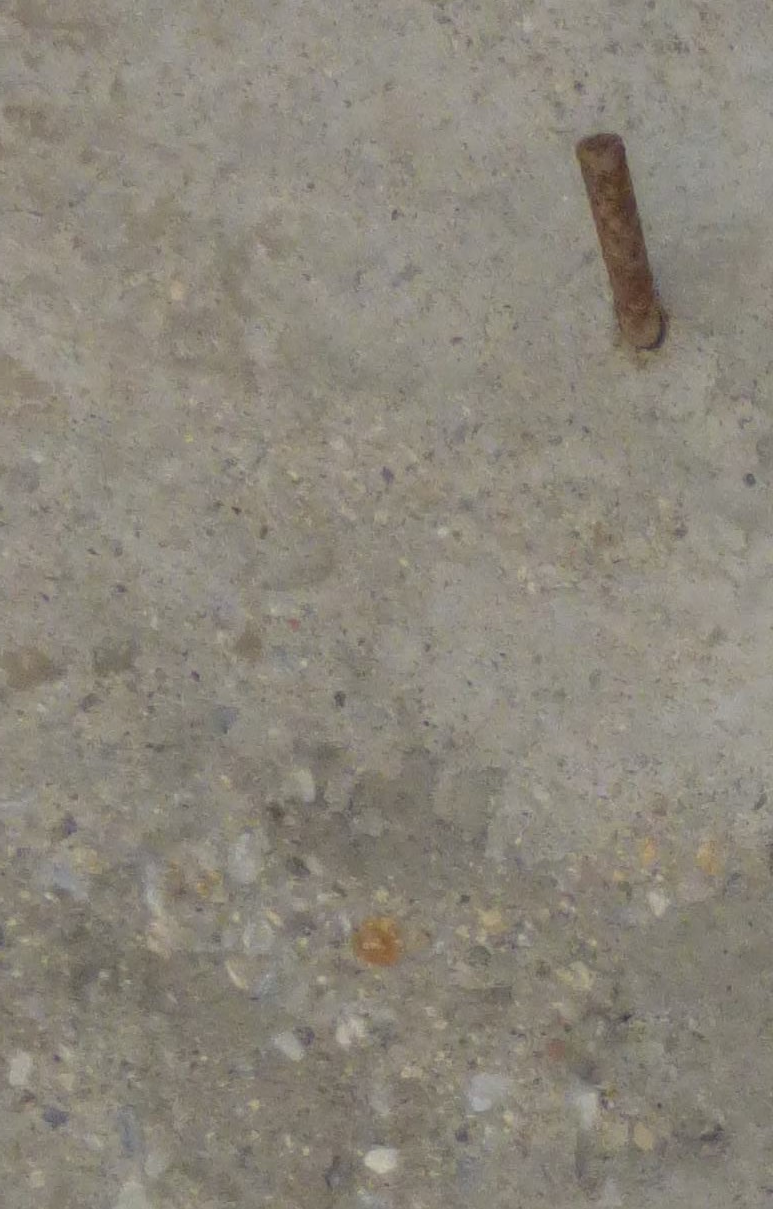Corrosion: (355, 912, 403, 966)
Exposed reinforcement: (575, 132, 663, 348)
